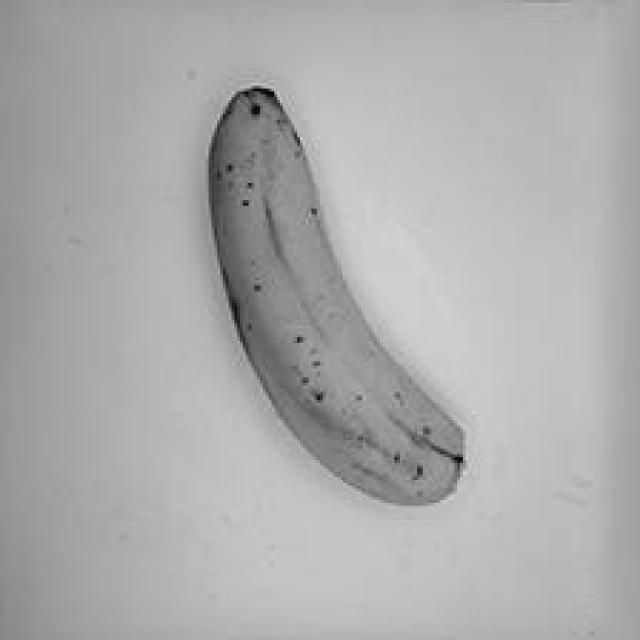Overripe: (158, 68, 508, 521)
